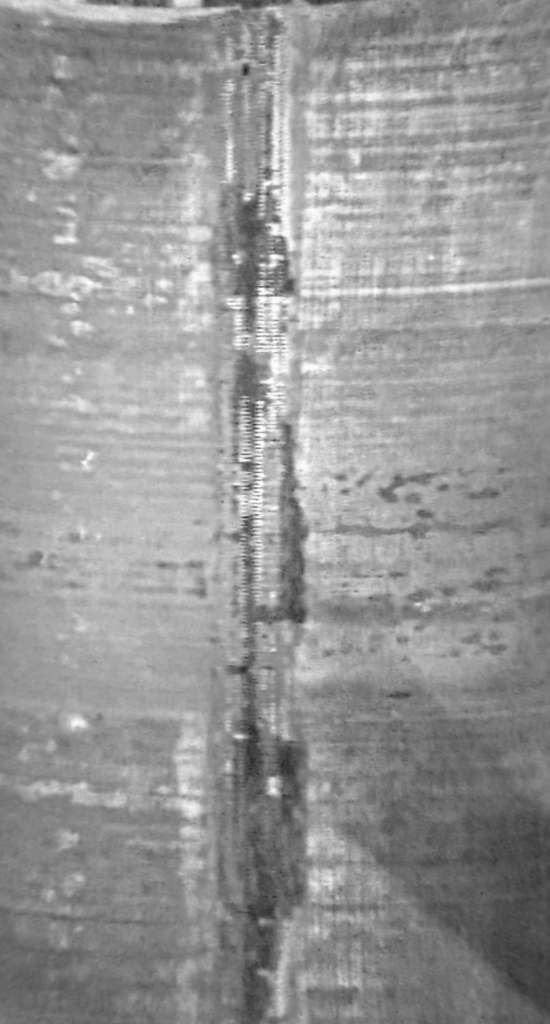splice: (214, 11, 312, 1024)
